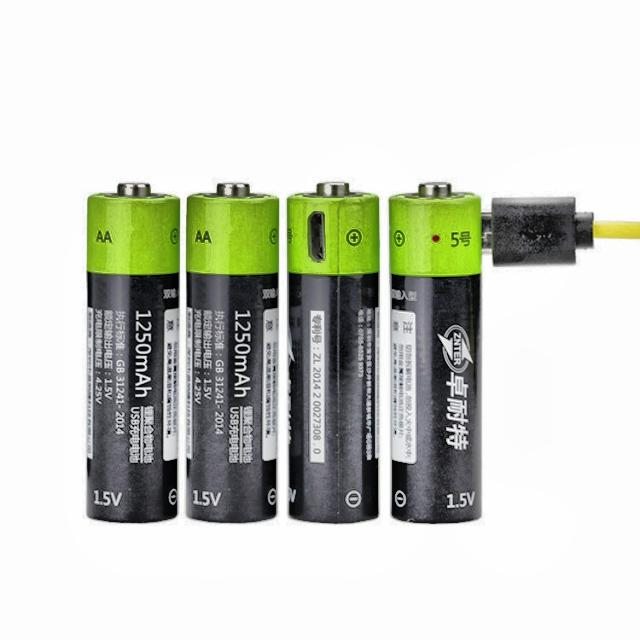Non-Valuable Waste - Batteries: (186, 182, 279, 522), (389, 182, 481, 523), (88, 182, 180, 522), (288, 182, 379, 523)
